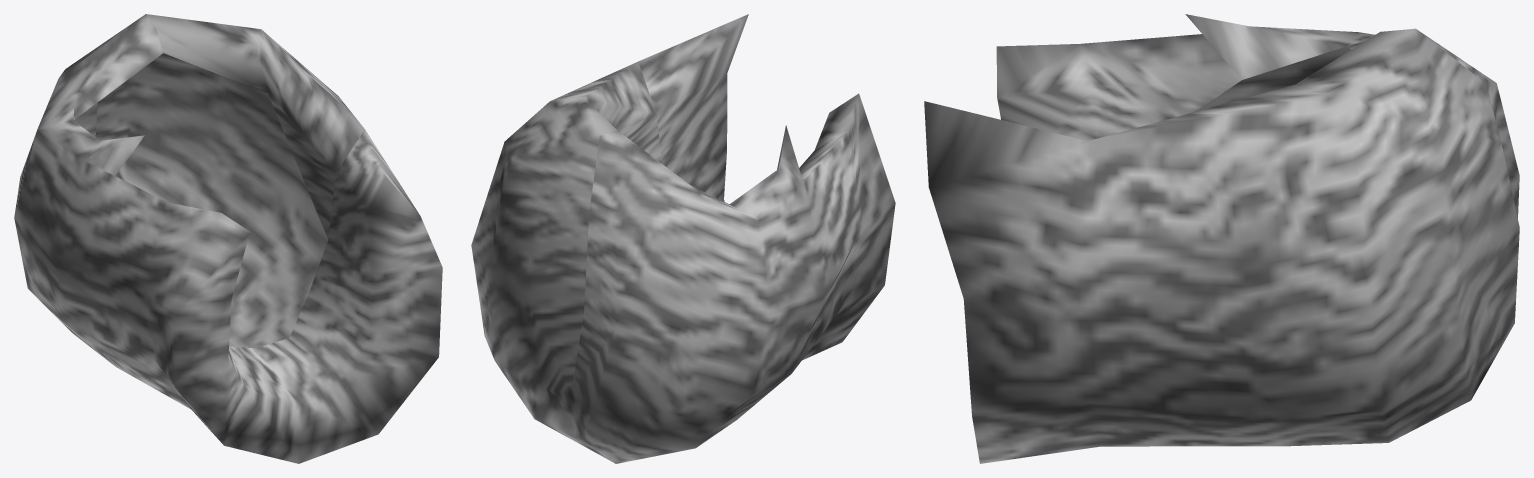
File: Wig_Kate_Hair_RachelCurly.fbx
The picture shows the model from 3 angles, left to right: view 1: azimuth 30°, elevation 25°; view 2: azimuth 150°, elevation 25°; view 3: azimuth 270°, elevation 25°; orthographic projection. The views are drawn at different scales.
Visible parts, largest first — view 1: BoxOfJars003; view 2: BoxOfJars003; view 3: BoxOfJars003.
Part boxes in pixels (<box>): BoxOfJars003: <box>14,14,442,463</box>; BoxOfJars003: <box>471,14,895,463</box>; BoxOfJars003: <box>924,14,1519,463</box>.
Bounding box in the file's own units: 14.66 × 15.25 × 19.57.
